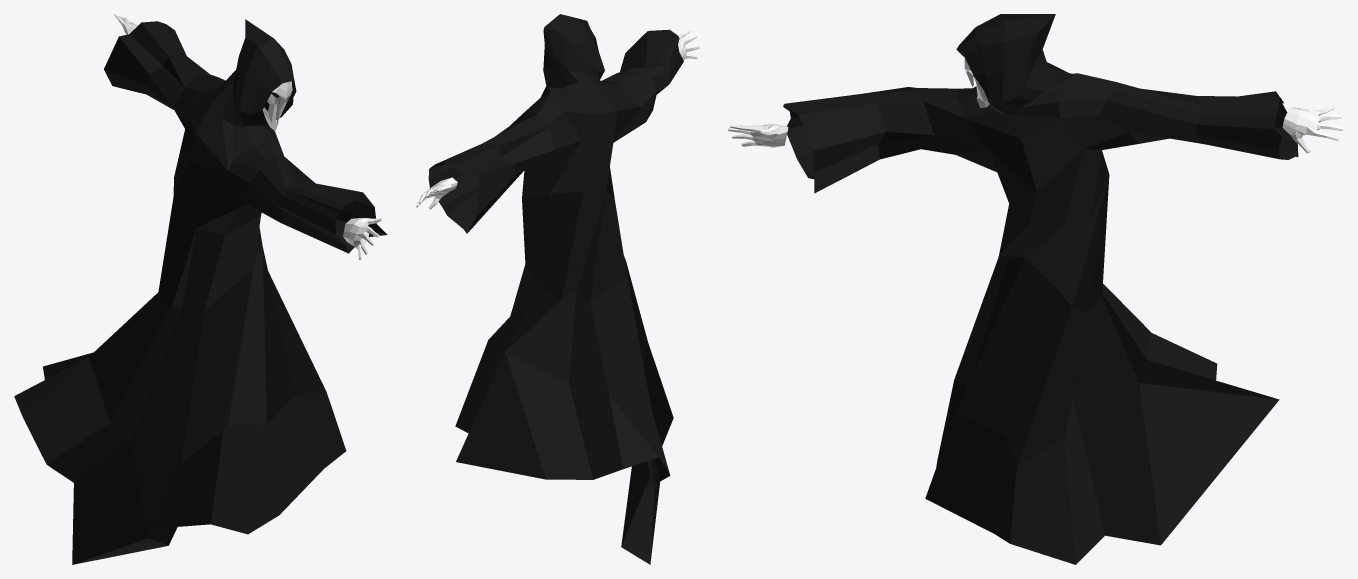
Rendered from ReaperAttack(37).obj.
3 renders of one model, left to right at view 1: azimuth 30°, elevation 25°; view 2: azimuth 150°, elevation 25°; view 3: azimuth 270°, elevation 25°, orthographic. The views are drawn at different scales.
Visible parts, largest first — view 1: Plane003; view 2: Plane003; view 3: Plane003.
Boxes of the visible parts, bbox=[...] form: Plane003: bbox=[14, 14, 387, 564]; Plane003: bbox=[416, 14, 699, 564]; Plane003: bbox=[728, 14, 1343, 564].
Bounding box in the file's own units: 119 × 231 × 218.
